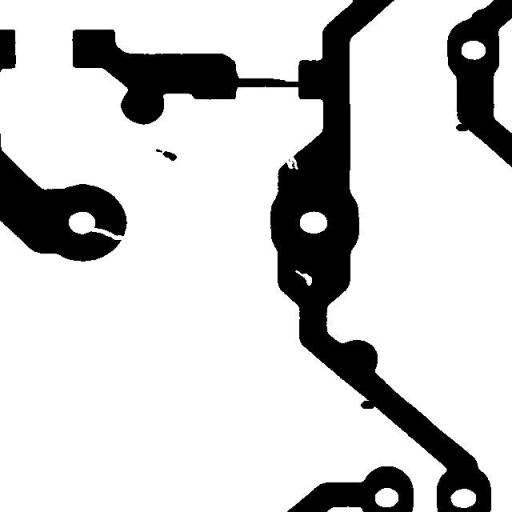copper: (148, 141, 184, 168)
mousebite: (276, 146, 306, 176)
open: (80, 218, 131, 247)
pin-hole: (287, 262, 319, 293)
short: (226, 70, 310, 94)
spur: (353, 390, 382, 416), (448, 114, 478, 138)
